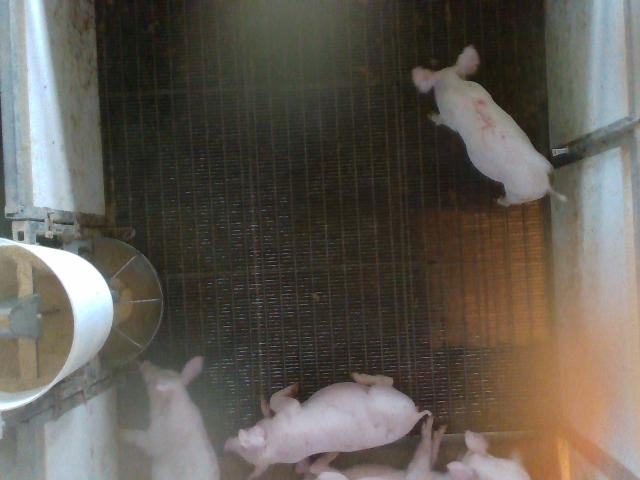pig-5: (412, 46, 565, 206)
